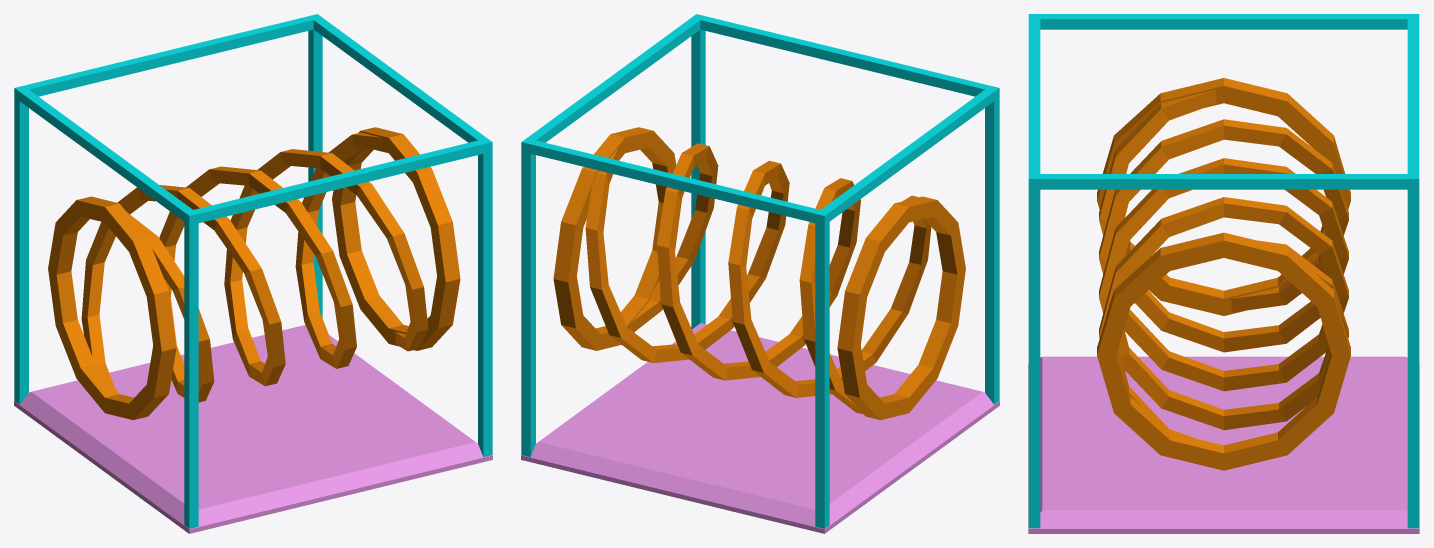
The model's file is factory_transport.gltf.
3 renders of one model, left to right at view 1: azimuth 30°, elevation 25°; view 2: azimuth 150°, elevation 25°; view 3: azimuth 270°, elevation 25°, orthographic. The views are drawn at different scales.
Parts seen in each view (by area): view 1: floor; view 2: floor; view 3: floor.
Part boxes in pixels (left/top/right/bottom): floor: left=14, top=14, right=492, bottom=533; floor: left=521, top=14, right=999, bottom=533; floor: left=1028, top=14, right=1419, bottom=533.
Bounding box in the file's own units: 10 × 10 × 10.
